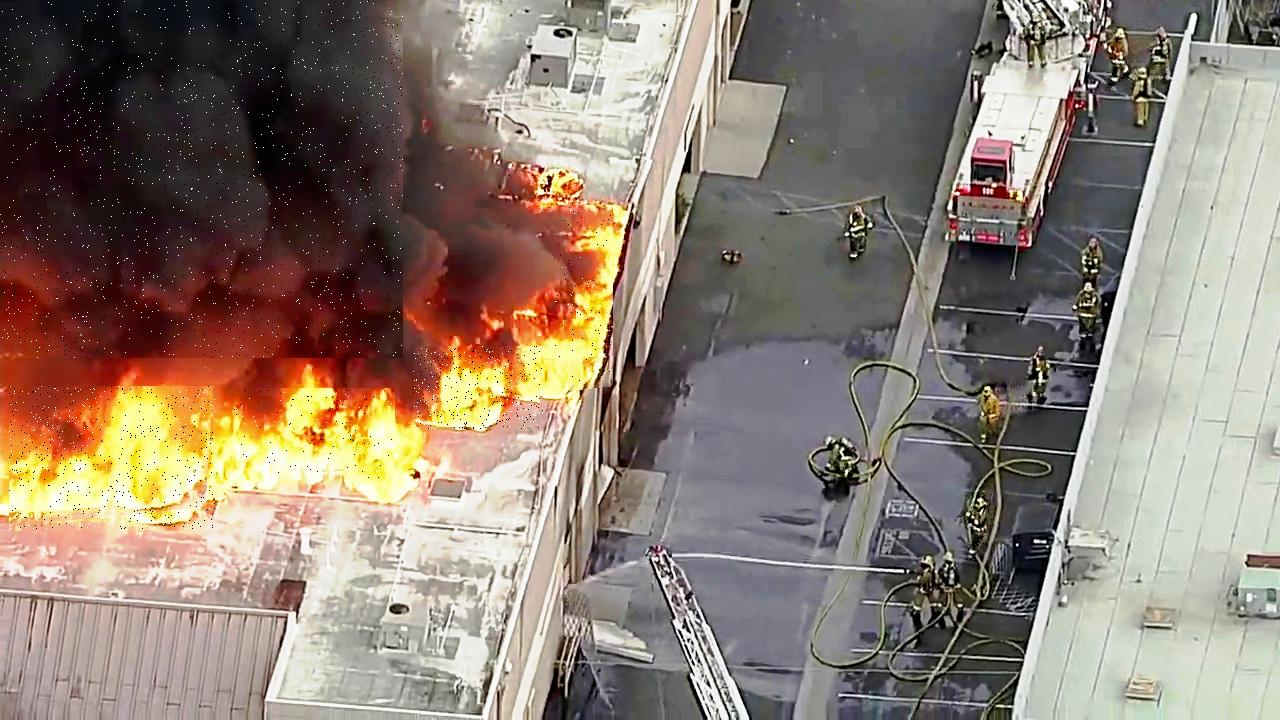fire: (9, 387, 215, 530), (234, 389, 395, 479), (414, 347, 544, 430), (555, 205, 613, 391)
smoke: (0, 0, 403, 358)
